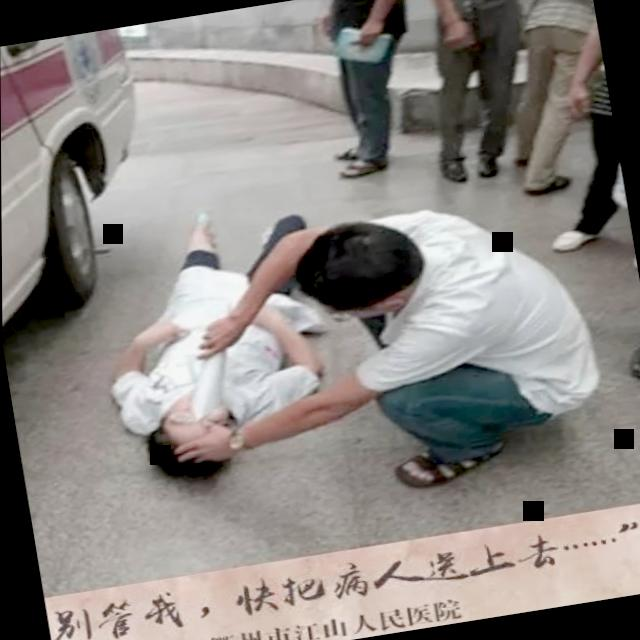Fall-Detected: (65, 180, 341, 500)
